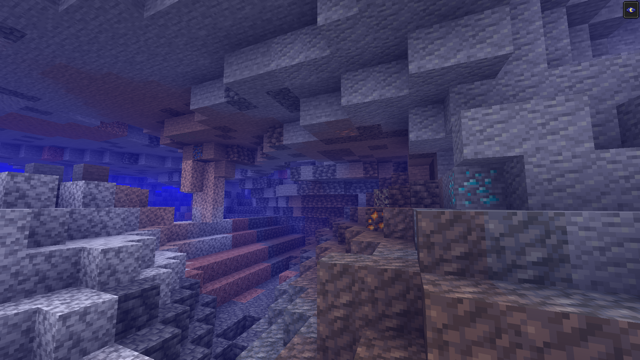diamond: (446, 166, 506, 210)
gold: (368, 206, 385, 232)
iron: (334, 125, 359, 139)
